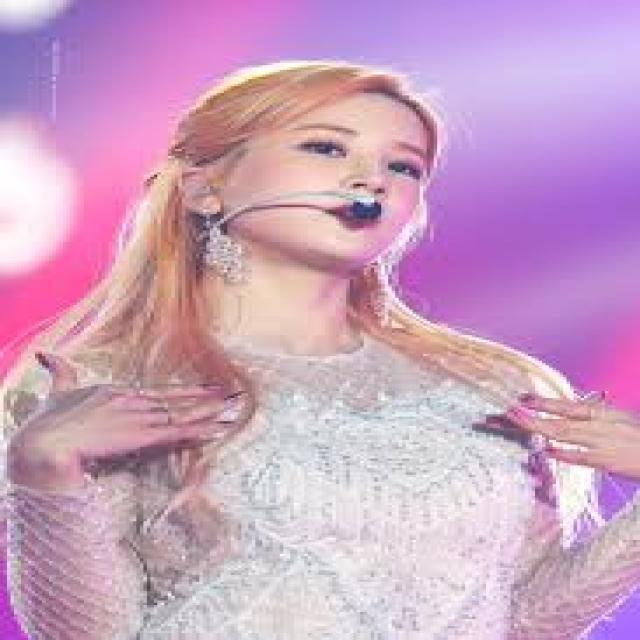earphone: (172, 172, 228, 224)
